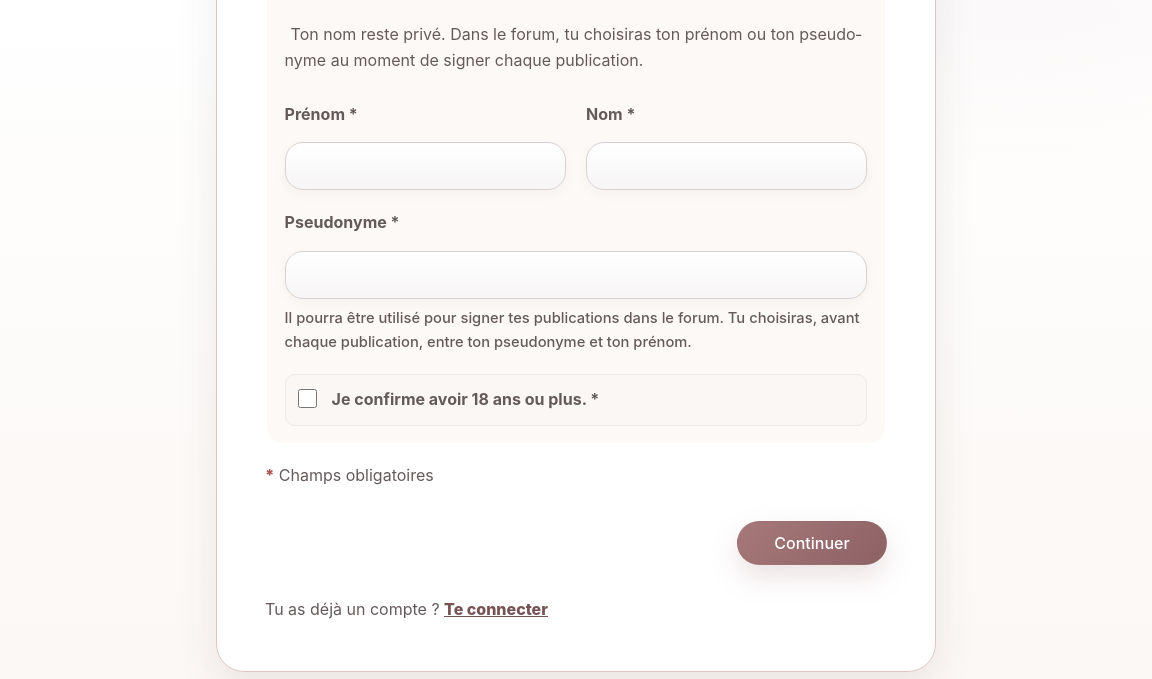
Test: RegistrationPage › affiche les erreurs avant de changer d’étape
(page scrolled)
Click the button "Continuer": (812, 543) left=737, top=521, right=887, bottom=565
(page scrolled)
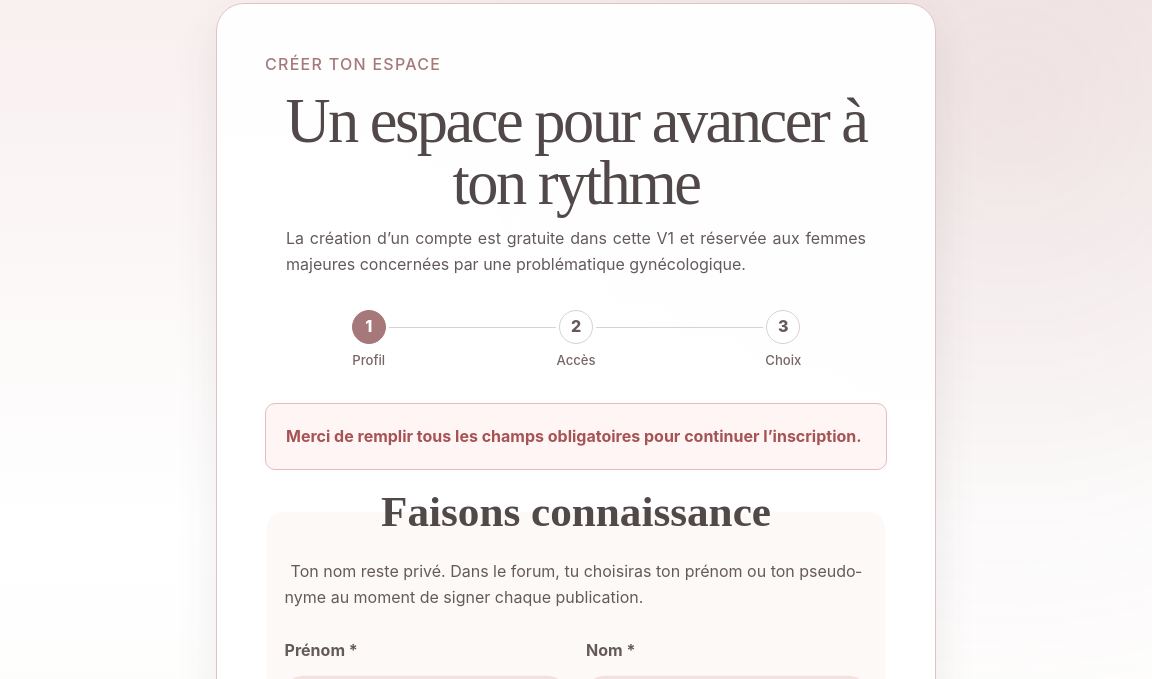
Expected: the text "Profil" is shown, left=352, top=350, right=385, bottom=371
Expected: the text "Merci de remplir tous les champs obligatoires pour continuer l’inscription." is shown, left=286, top=424, right=866, bottom=449
